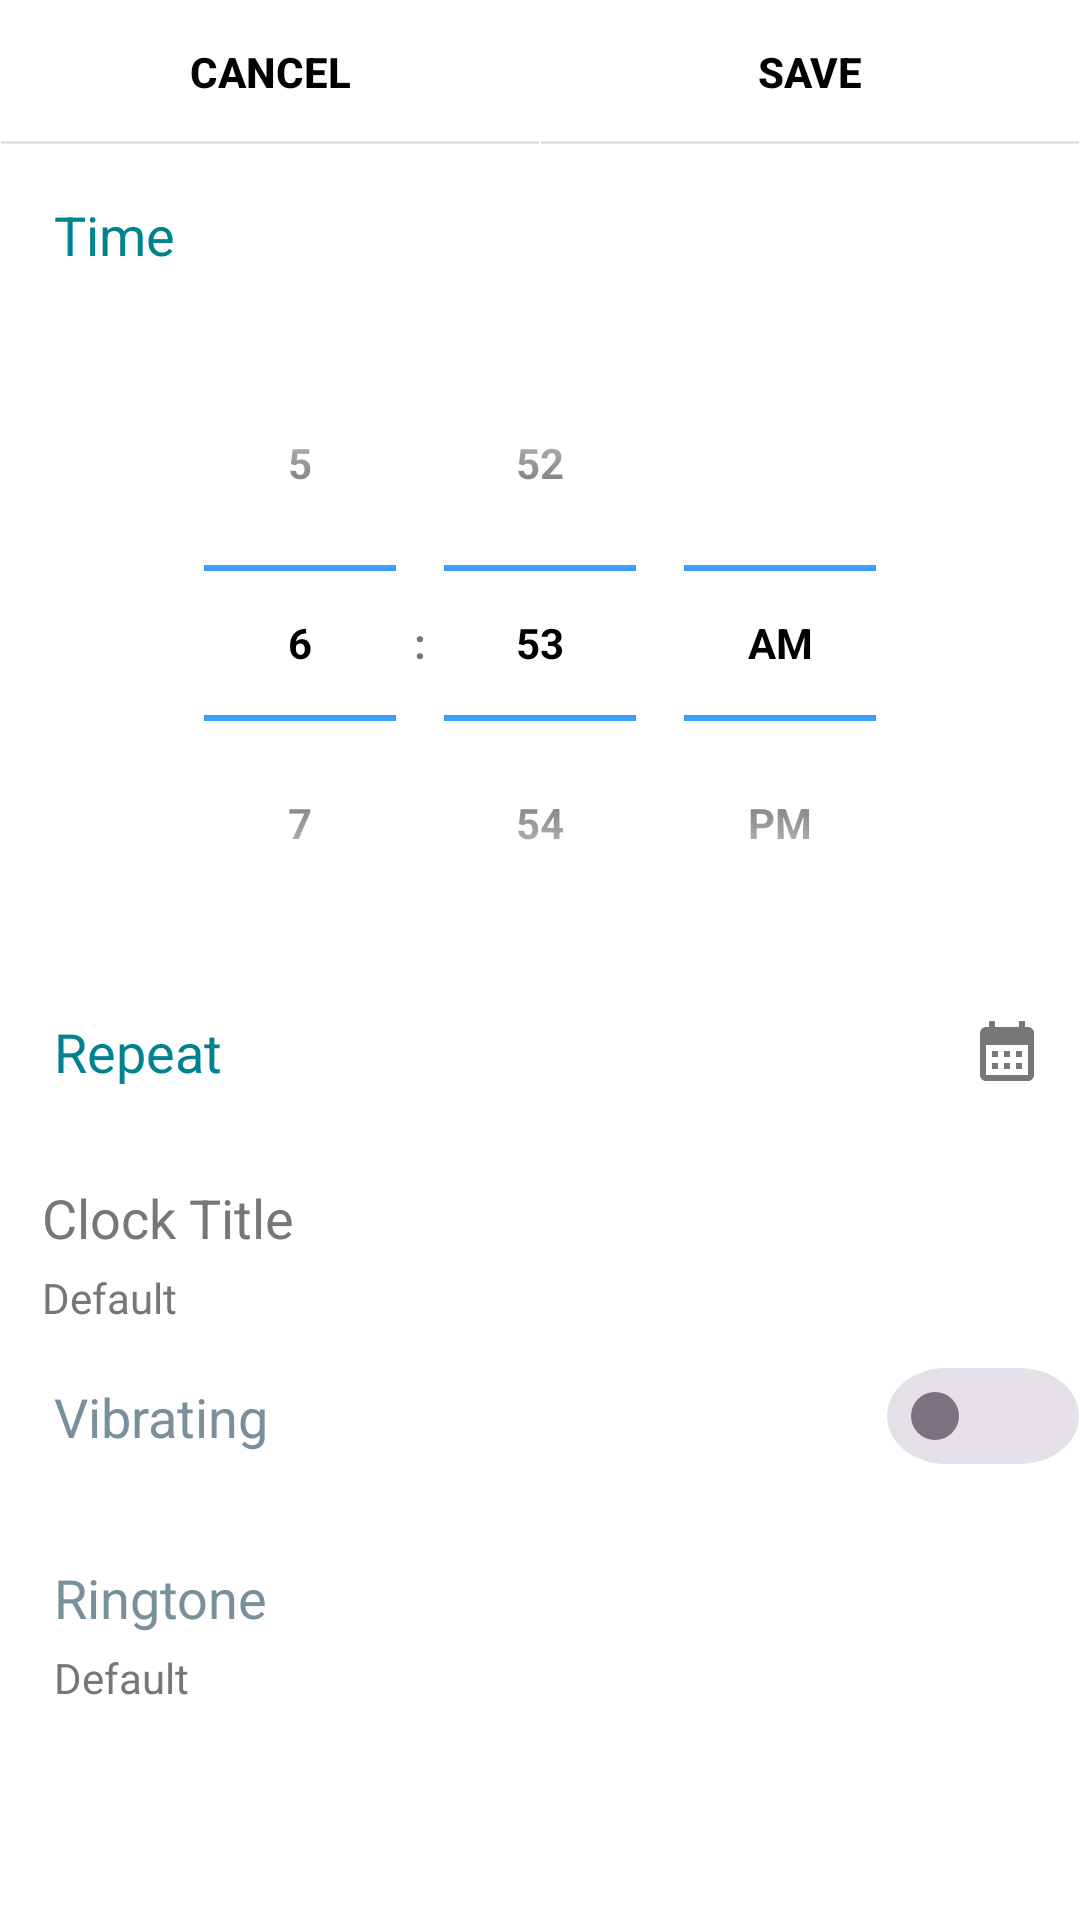

Icon click points for this 1080px×1920px phone screenshot, format [x,y]:
Calendar: [1007,1051]
